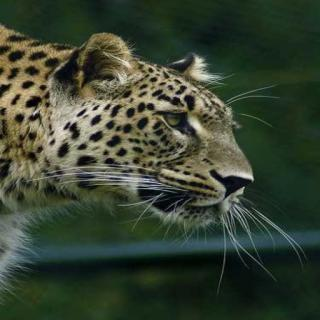Leopard: (0, 32, 277, 242)
